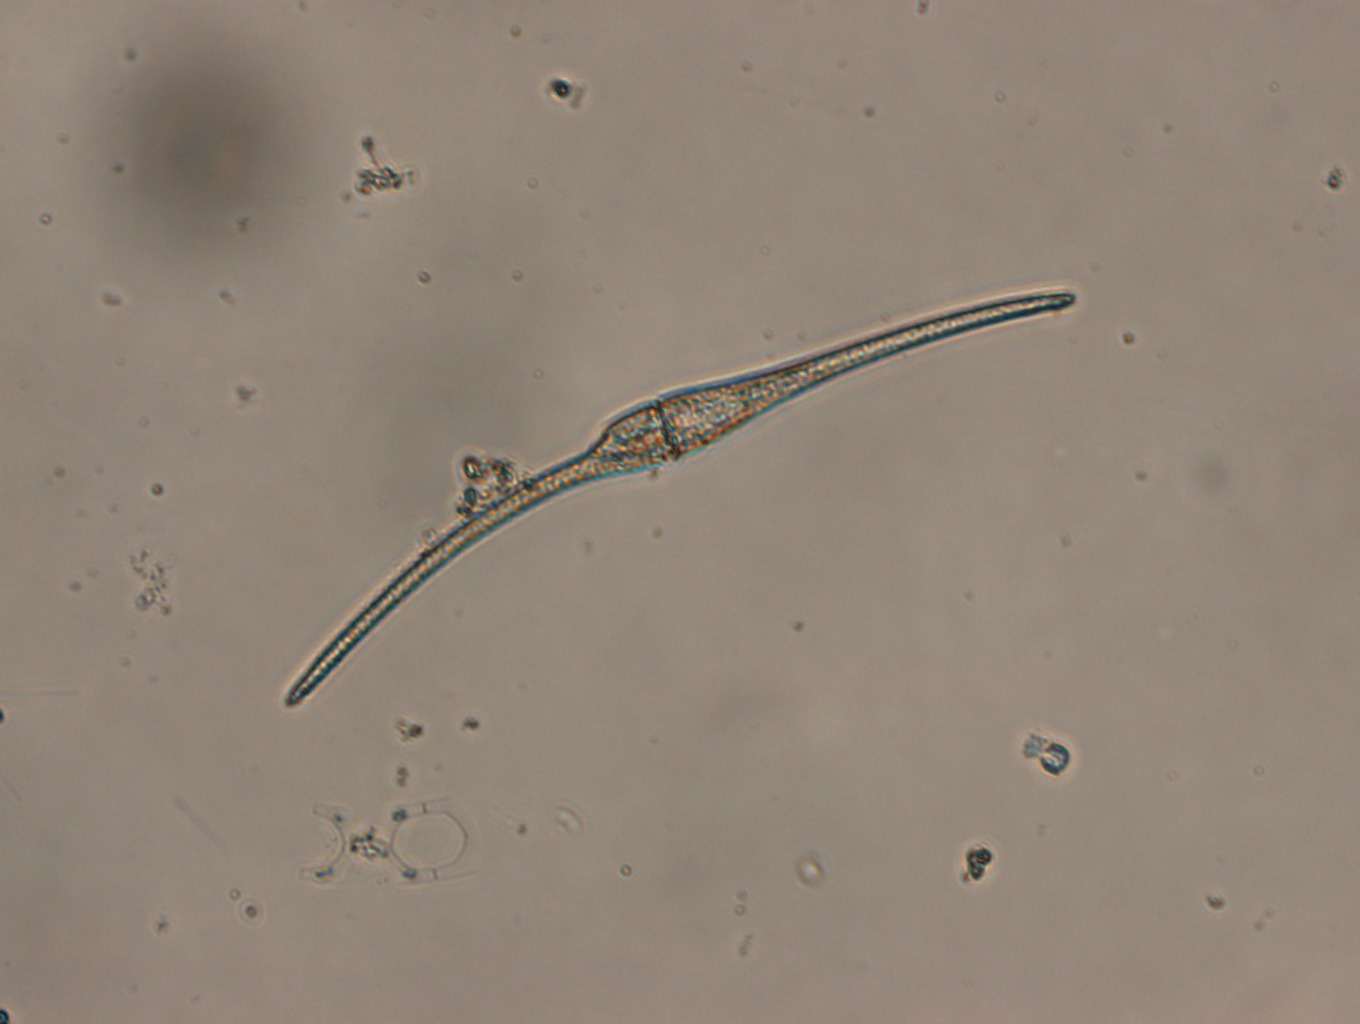ceratium fusus: (283, 286, 1079, 707)
